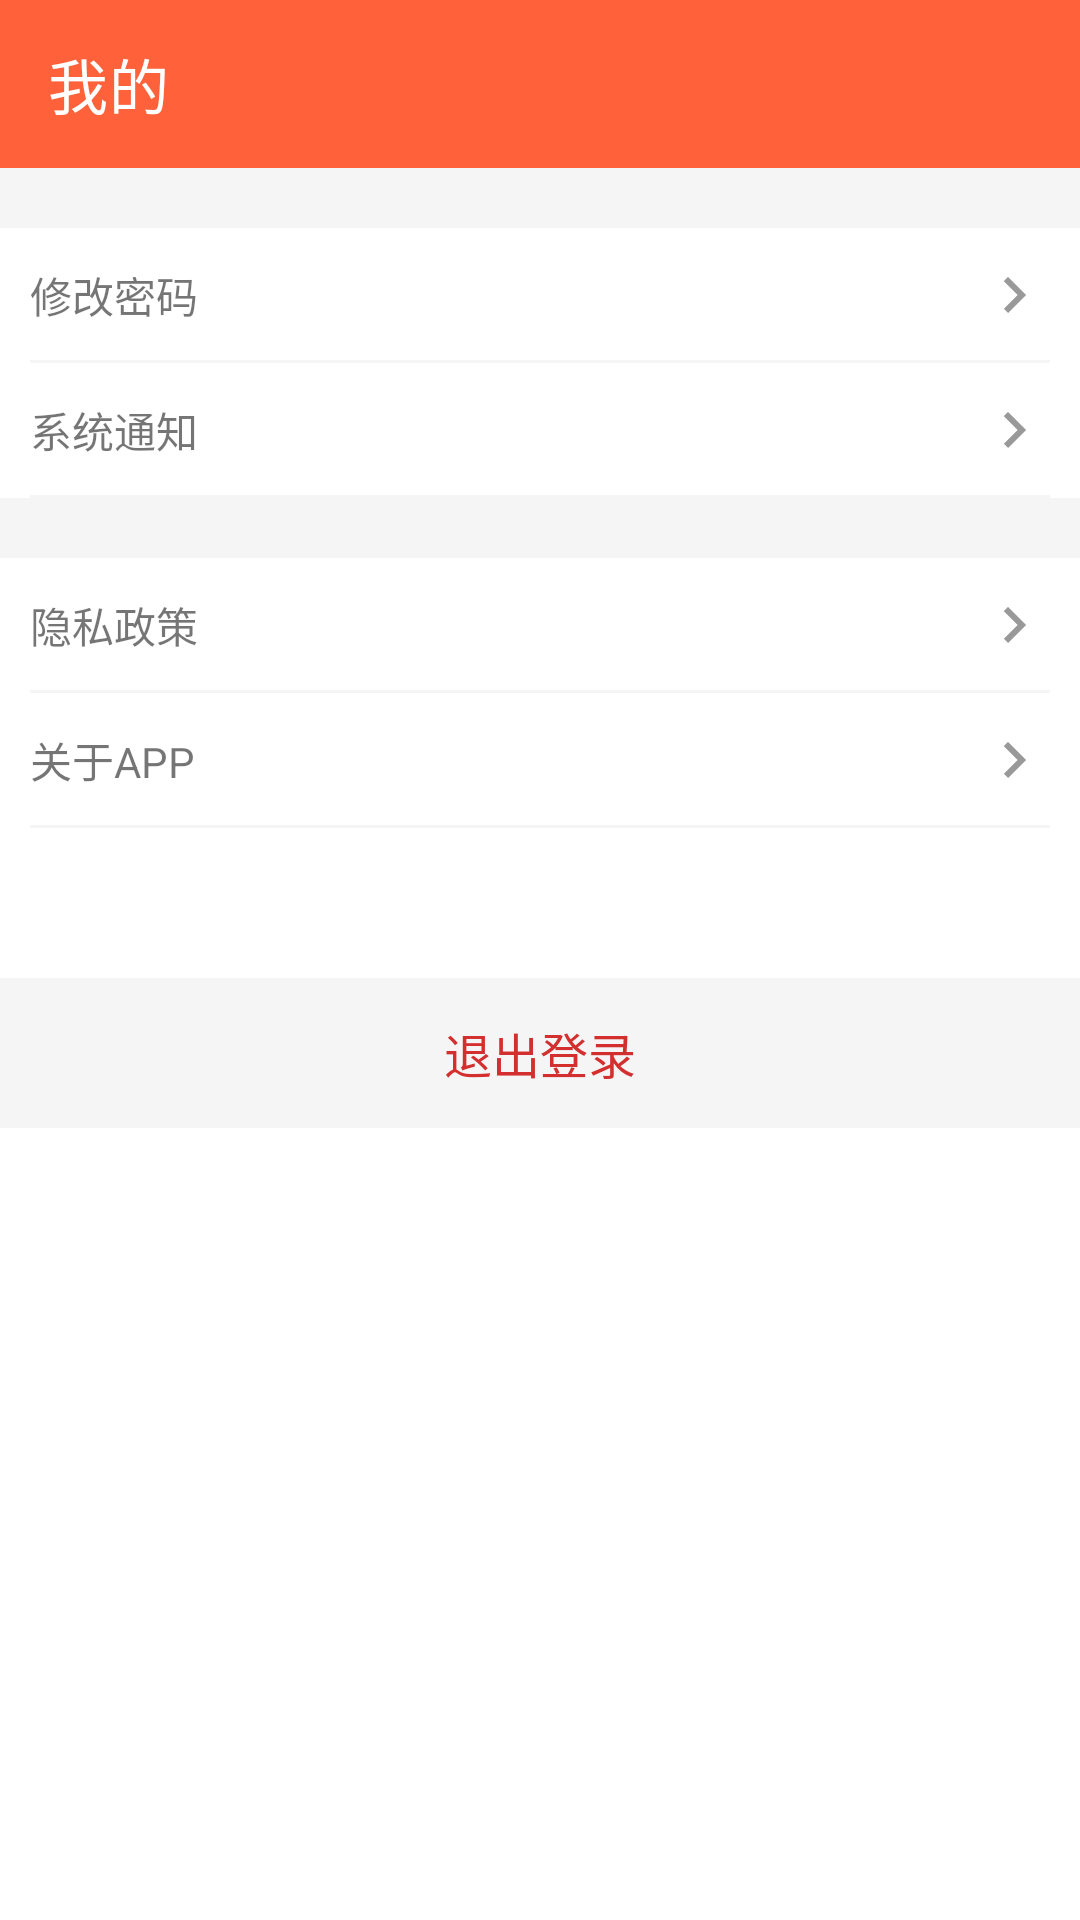

Point at icon controls on the screen. Image size 1080×1920, points as (x,y).
keyboard arrow right: (1015,295), (1015,430), (1015,625), (1015,760)
